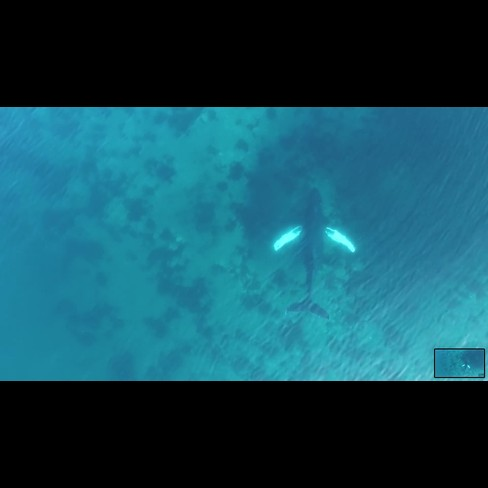hump: (268, 182, 360, 329)
